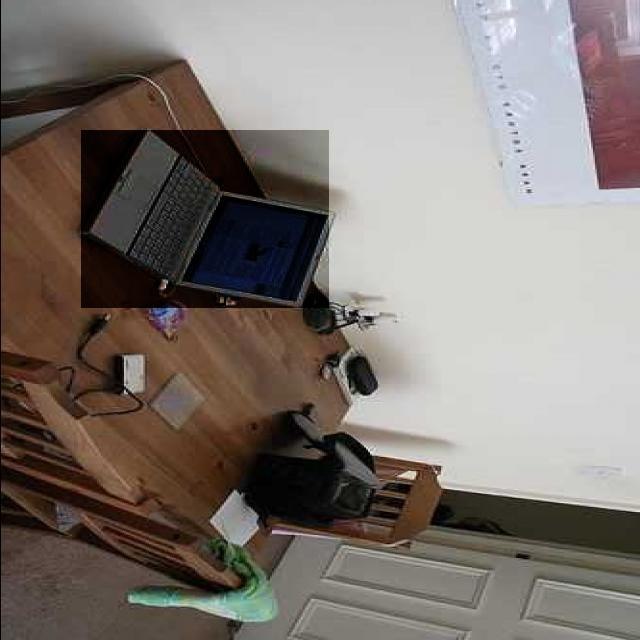-keyboard-: (81, 130, 329, 308)
